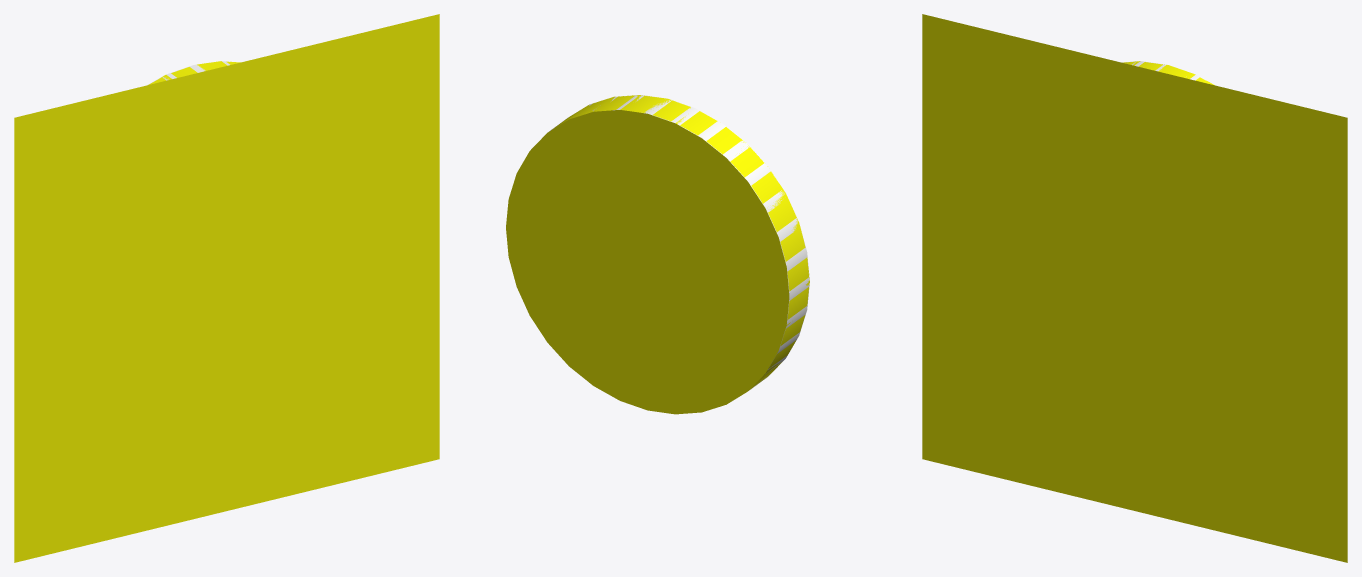
Rendered from coin.glb.
3 views of the same model, side by side, from view 1: azimuth 30°, elevation 25°; view 2: azimuth 150°, elevation 25°; view 3: azimuth 330°, elevation 25° (orthographic).
Parts seen in each view (by area): view 1: Plane; view 2: Cylinder_001, Cylinder_000; view 3: Plane.
Boxes of the visible parts, x1=… form: Plane: x1=14, y1=14, x2=439, y2=562; Cylinder_001: x1=506, y1=95, x2=809, y2=414; Cylinder_000: x1=549, y1=95, x2=809, y2=389; Plane: x1=922, y1=14, x2=1347, y2=562.
Size of the model in its own units: 3 by 3 by 0.4068.
3 materials, 2 textured.
